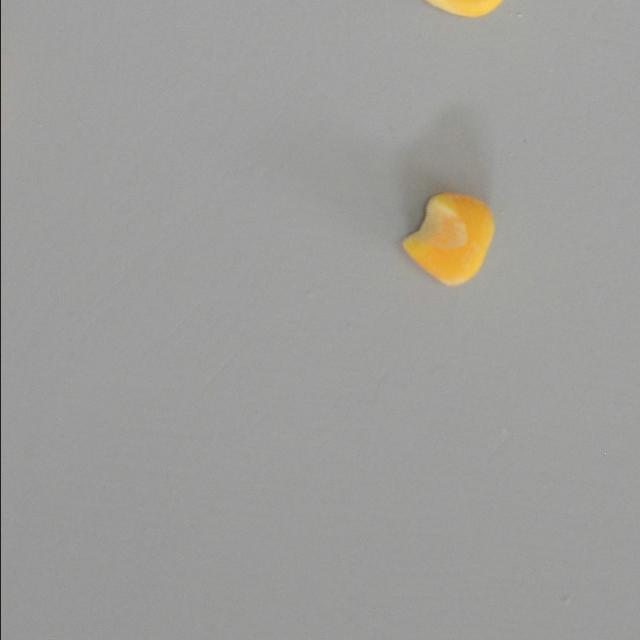no_canjicado: (400, 191, 496, 287), (400, 0, 516, 18)
